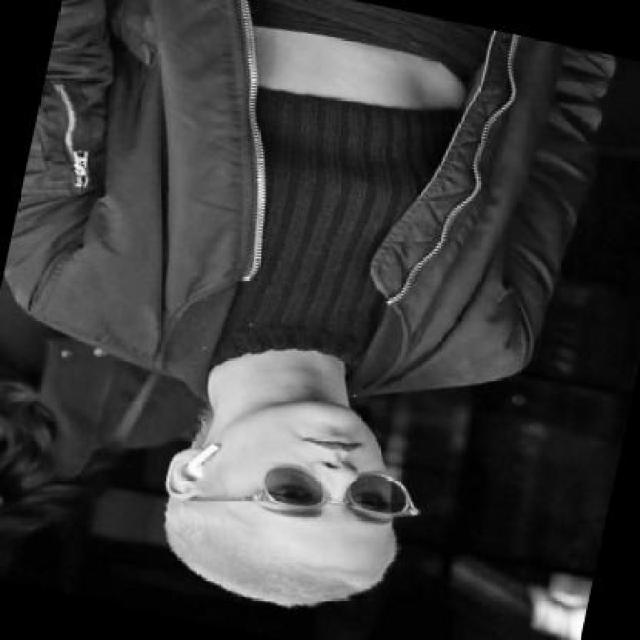earphone: (182, 426, 230, 488)
